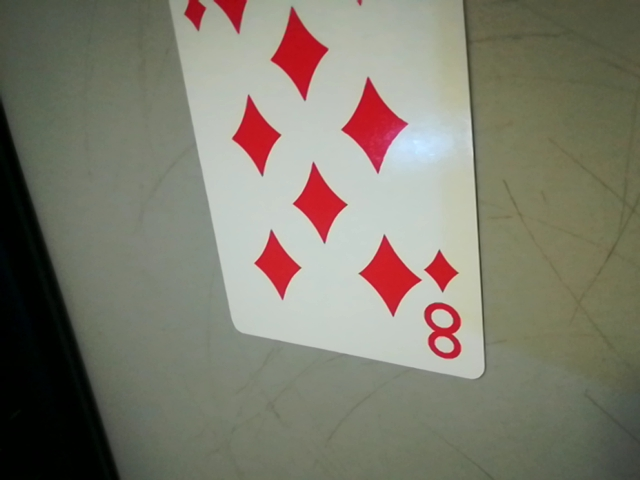fk 8: (413, 245, 477, 375)
